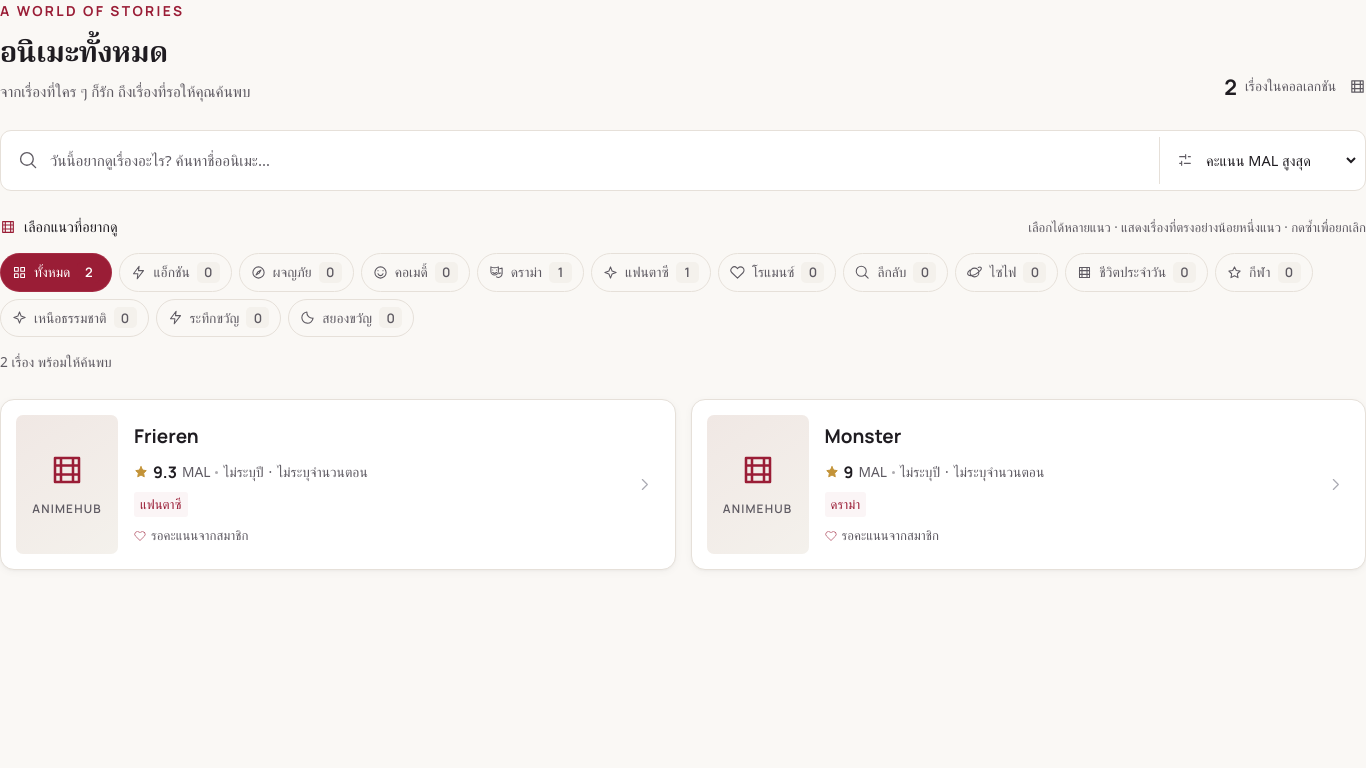
it: multiple selected genres stay visible and empty search results can be reset to all
Expected: the heading "Frieren" is shown, [134,423,199,449]
Click the button "ดราม่า 1": (530, 272) [477,253,584,292]
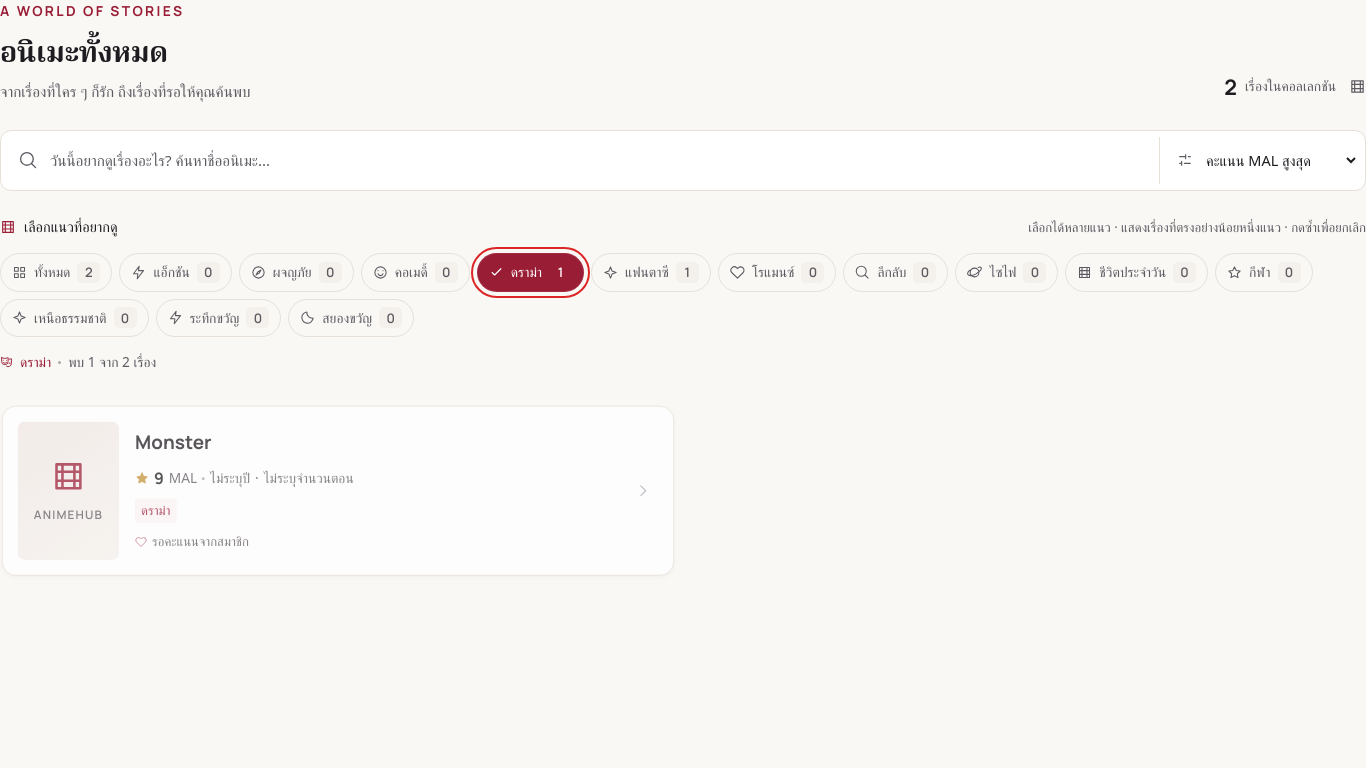
Now the link "Frieren" is gone
Click the button "แฟนตาซี 1": (651, 272) [591,253,711,292]
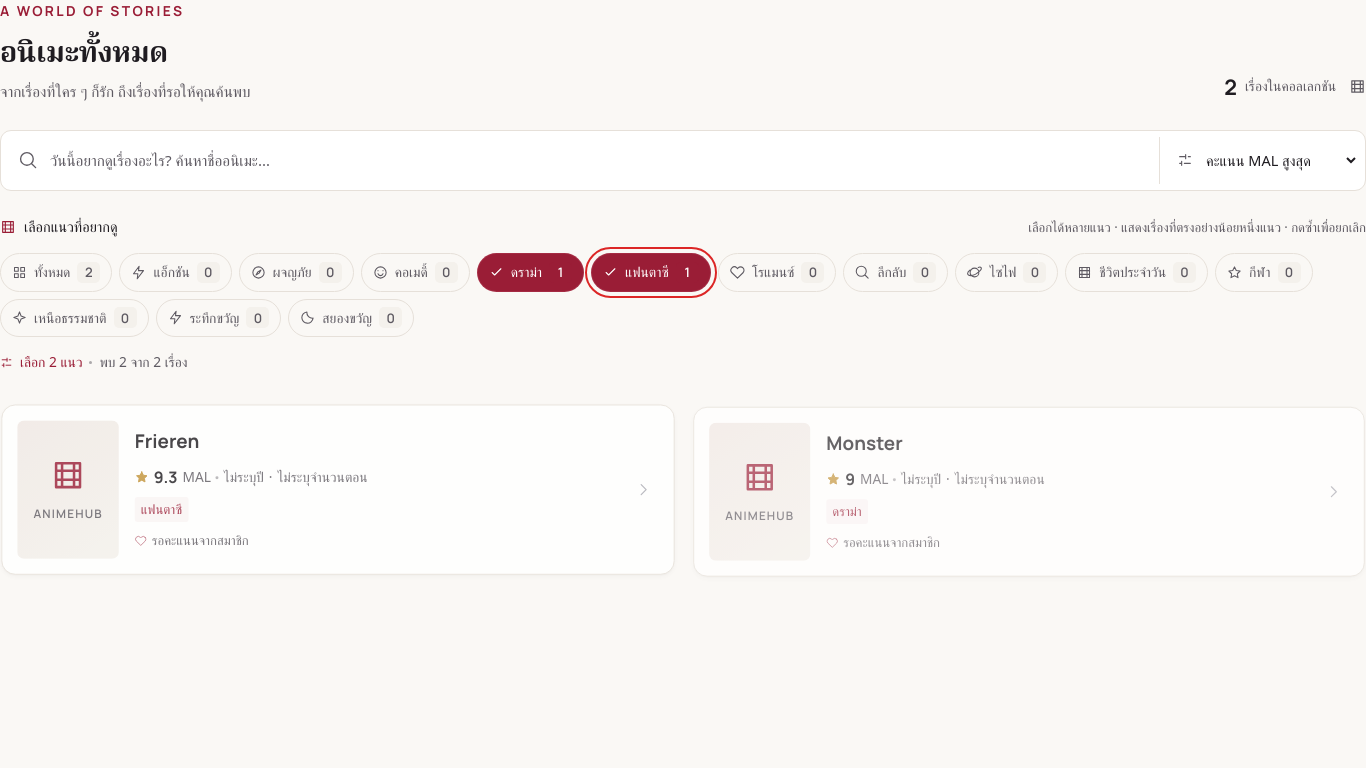
Expected: the heading "Monster" is shown, [826,429,902,455]
Now the heading "Frieren" is shown, box [135,428,199,454]
In the field named "ค้นหาอนิเมะ": (600, 160) [50,137,1149,184], type "missing"
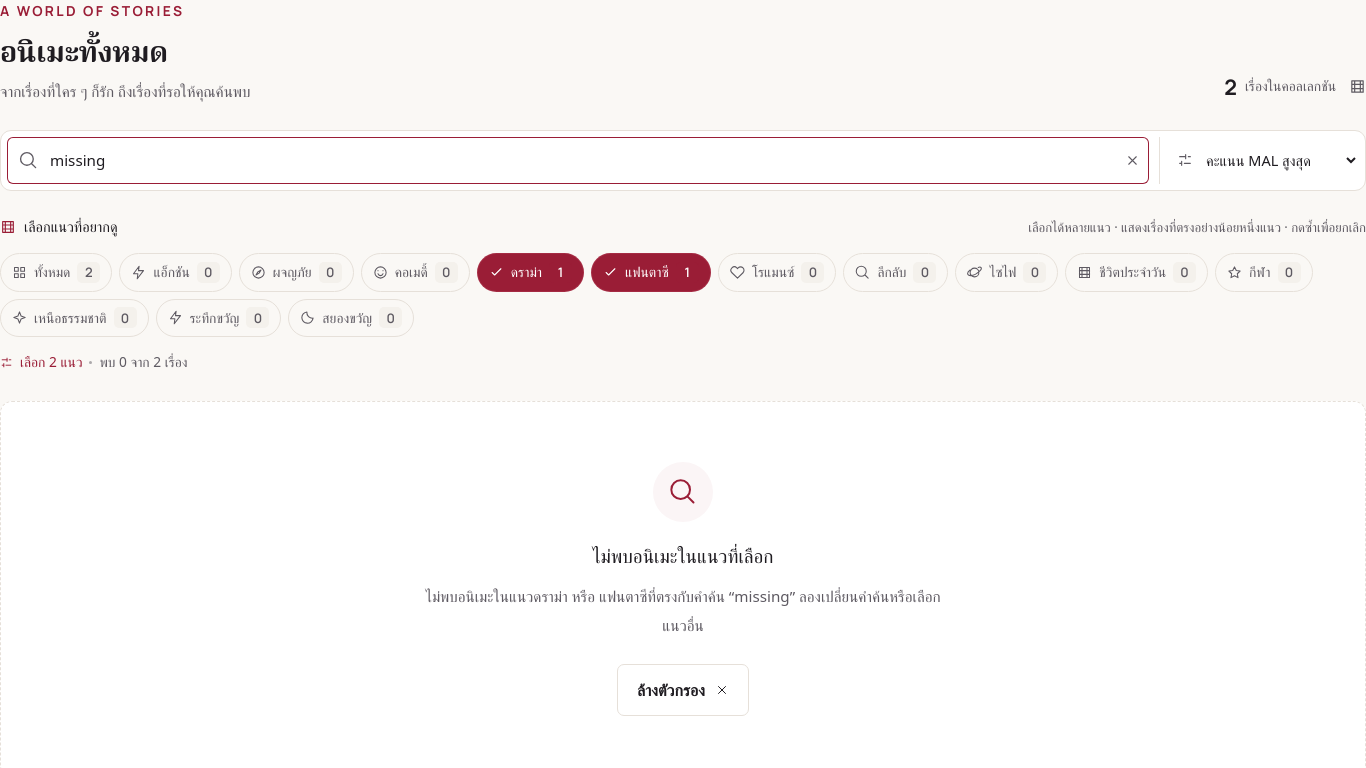
Click the button "ล้างตัวกรอง": (683, 690) [617,664,749,716]
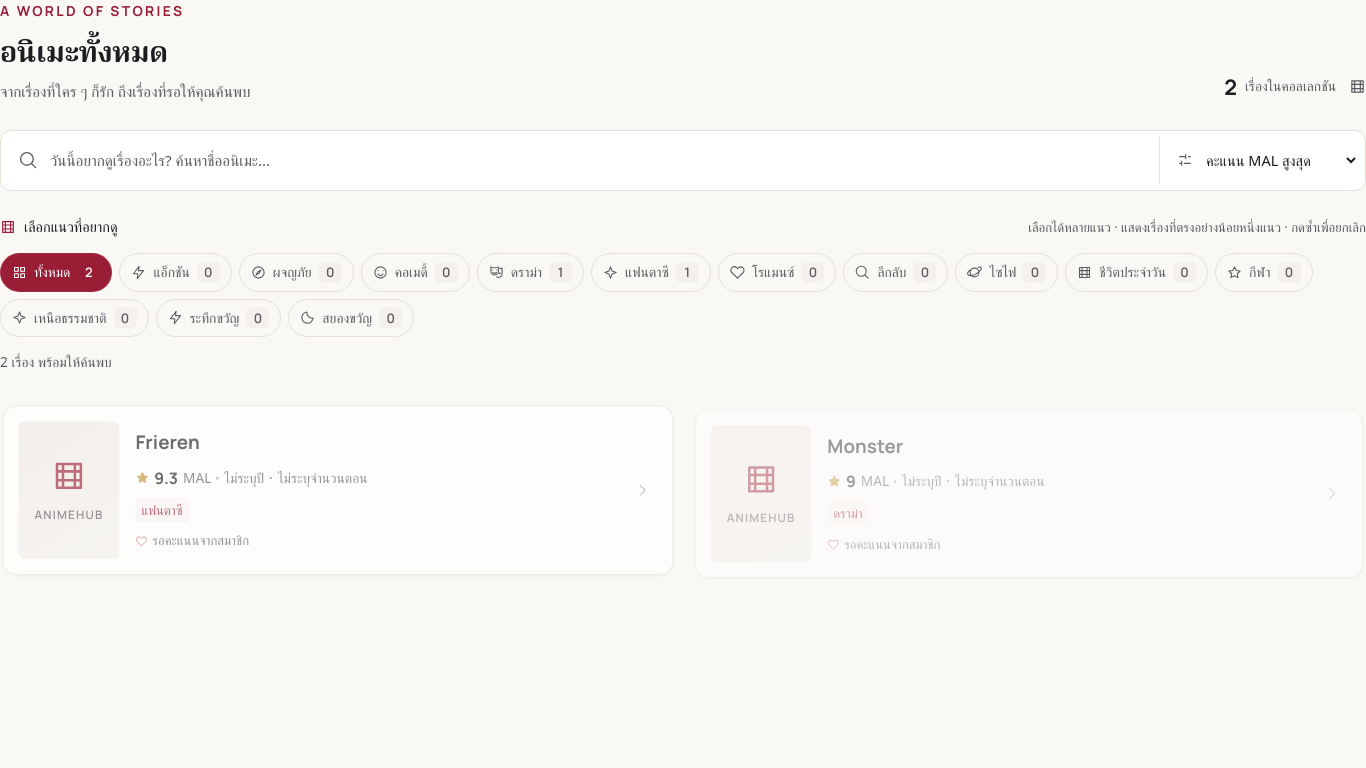
Expected: the text "Monster" is shown, [826,431,902,457]
Now the field named "ค้นหาอนิเมะ" is empty, box [50,137,1149,184]
Now the heading "Frieren" is shown, box [135,428,200,454]
